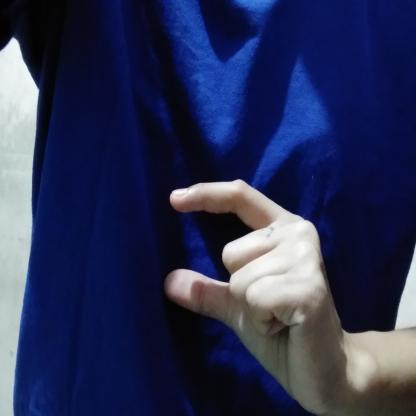small: (157, 170, 350, 416)
